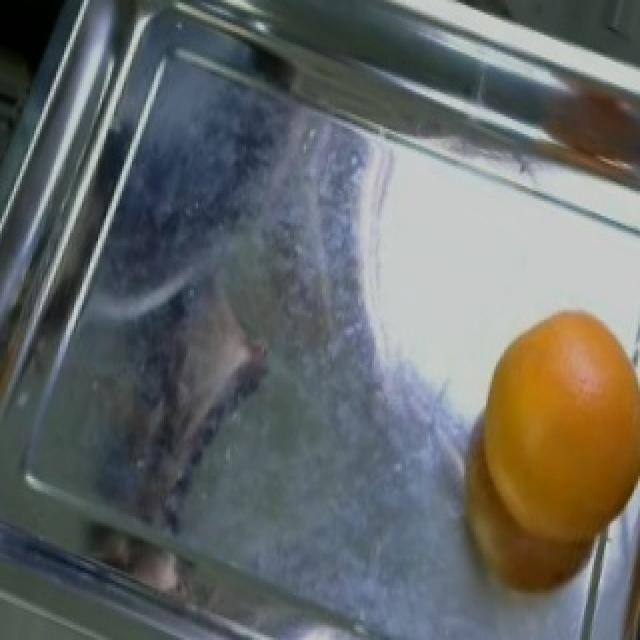Fruit: (456, 290, 638, 620)
